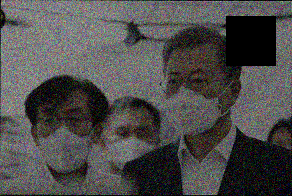with_mask: (163, 67, 226, 137), (37, 105, 94, 175), (107, 123, 159, 171)
